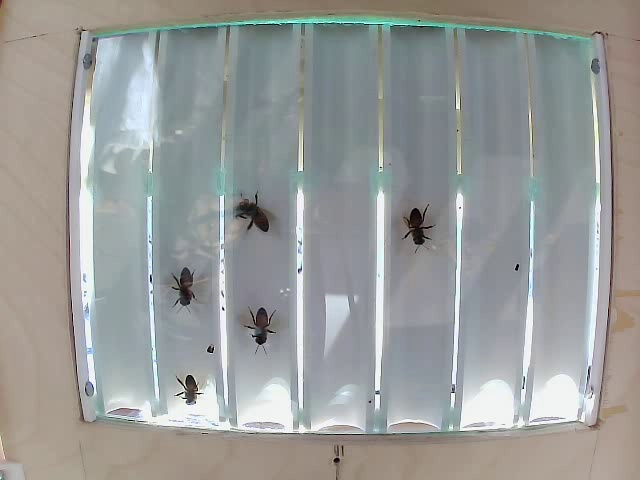bee: (236, 310, 279, 351), (163, 264, 203, 301), (384, 199, 430, 231), (235, 198, 266, 237), (187, 357, 215, 397)
